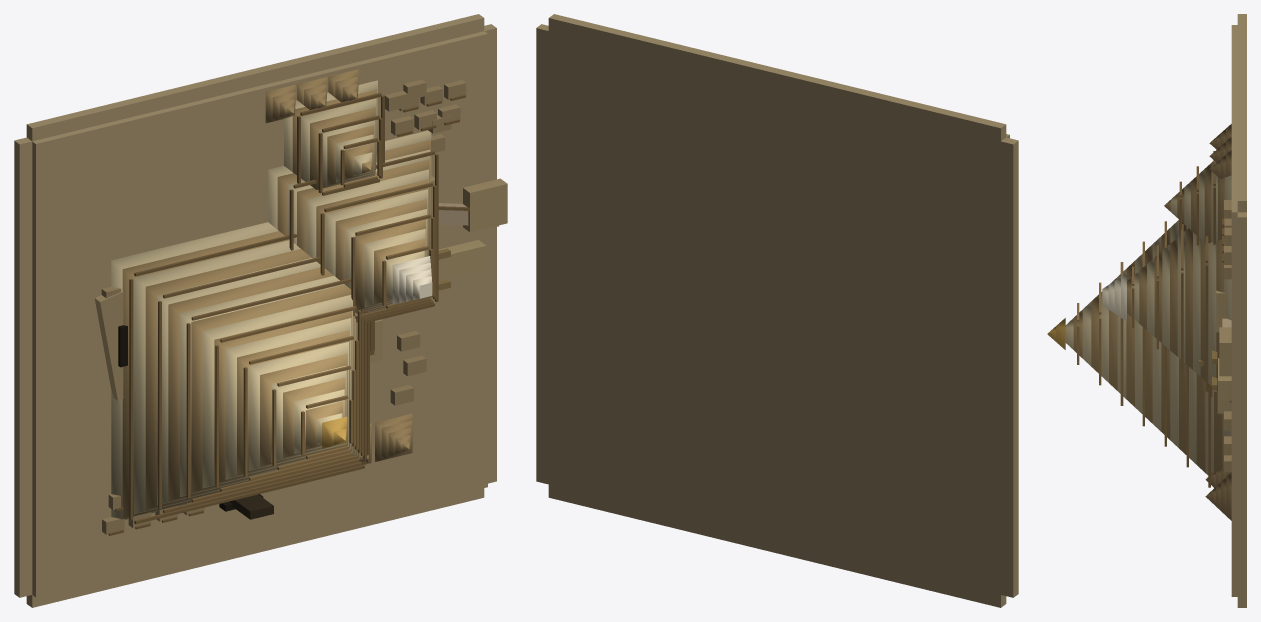
The model's file is great-pyramid.glb.
3 renders of one model, left to right at view 1: azimuth 30°, elevation 25°; view 2: azimuth 150°, elevation 25°; view 3: azimuth 270°, elevation 25°, orthographic. The views are drawn at different scales.
Visible parts, largest first — view 1: part-plateau, part-limestoneBand, part-limestone, part-courseLine, part-mastaba, part-temple, part-casingWhite, part-sphinxBody, part-dark, part-gold; view 2: part-plateau; view 3: part-limestoneBand, part-limestone, part-plateau, part-courseLine, part-temple, part-mastaba, part-casingWhite, part-sphinxBody, part-gold.
Boxes of the visible parts, box(x1,y1,x2,y2) form: part-plateau: box(14, 14, 496, 607); part-limestoneBand: box(122, 69, 430, 518); part-limestone: box(111, 80, 431, 519); part-courseLine: box(108, 93, 469, 535); part-mastaba: box(101, 79, 466, 534); part-temple: box(94, 175, 507, 400); part-casingWhite: box(392, 256, 432, 304); part-sphinxBody: box(438, 240, 486, 280); part-dark: box(229, 494, 273, 519); part-gold: box(322, 416, 347, 448); part-plateau: box(536, 14, 1018, 607); part-limestoneBand: box(1073, 124, 1231, 520); part-limestone: box(1065, 161, 1231, 475); part-plateau: box(1231, 14, 1246, 607); part-courseLine: box(1077, 151, 1223, 487); part-temple: box(1213, 290, 1231, 413); part-mastaba: box(1224, 200, 1231, 472); part-casingWhite: box(1102, 273, 1126, 321); part-sphinxBody: box(1218, 358, 1231, 400); part-gold: box(1047, 318, 1065, 349).
Bounding box in the file's own units: 1.52 × 1.46 × 0.65.
